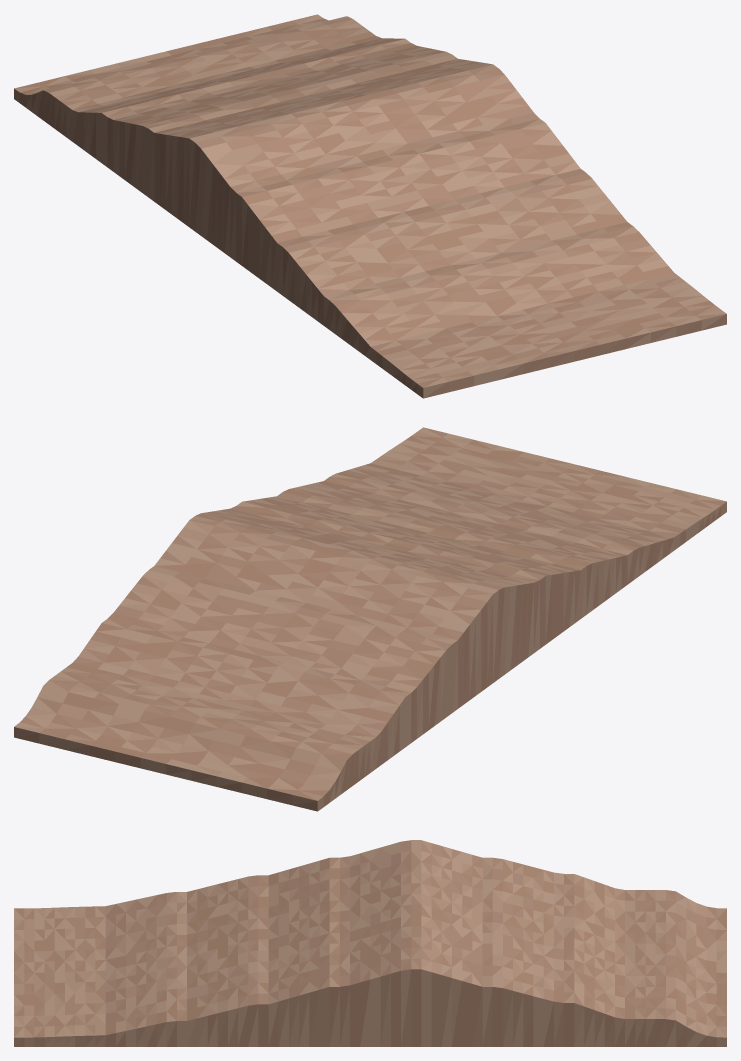
The model's file is 03_rock_staircase.glb.
The picture shows the model from 3 angles, top to bottom: view 1: azimuth 30°, elevation 25°; view 2: azimuth 150°, elevation 25°; view 3: azimuth 270°, elevation 25°; orthographic projection. The views are drawn at different scales.
Visible parts, largest first — view 1: ObstacleMesh; view 2: ObstacleMesh; view 3: ObstacleMesh.
Part boxes in pixels (<box>): ObstacleMesh: <box>14,14,726,398</box>; ObstacleMesh: <box>14,427,726,811</box>; ObstacleMesh: <box>14,840,726,1046</box>.
Size of the model in its own units: 6 by 1.68 by 14.
